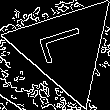L_E: (36, 26, 95, 71)
